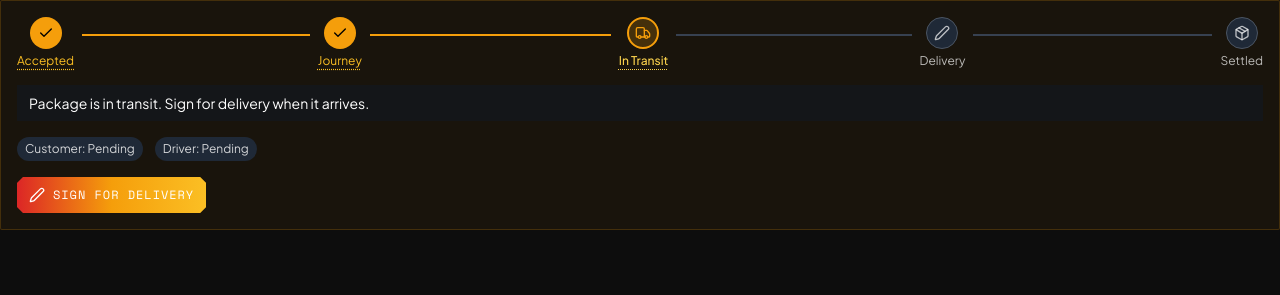
Test case: P2POrderFlow › should display error message when sign action fails
The width and height of the screenshot is (1280, 295).
expect the text "Sign for Delivery" is shown: met, box top-left (29, 187), bottom-right (194, 203)
Click the button "Sign for Delivery": (112, 195) top-left (17, 177), bottom-right (206, 213)
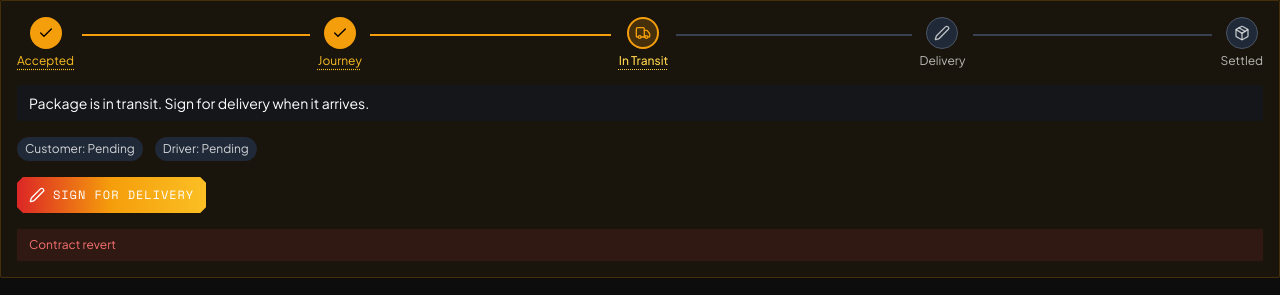
expect the text "Contract revert" is shown: met, box top-left (17, 229), bottom-right (1263, 261)
